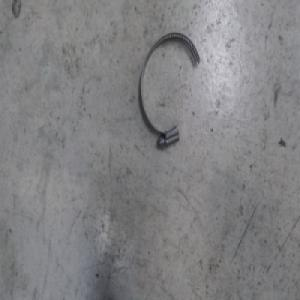AdjustableClamp: (138, 31, 201, 150)
